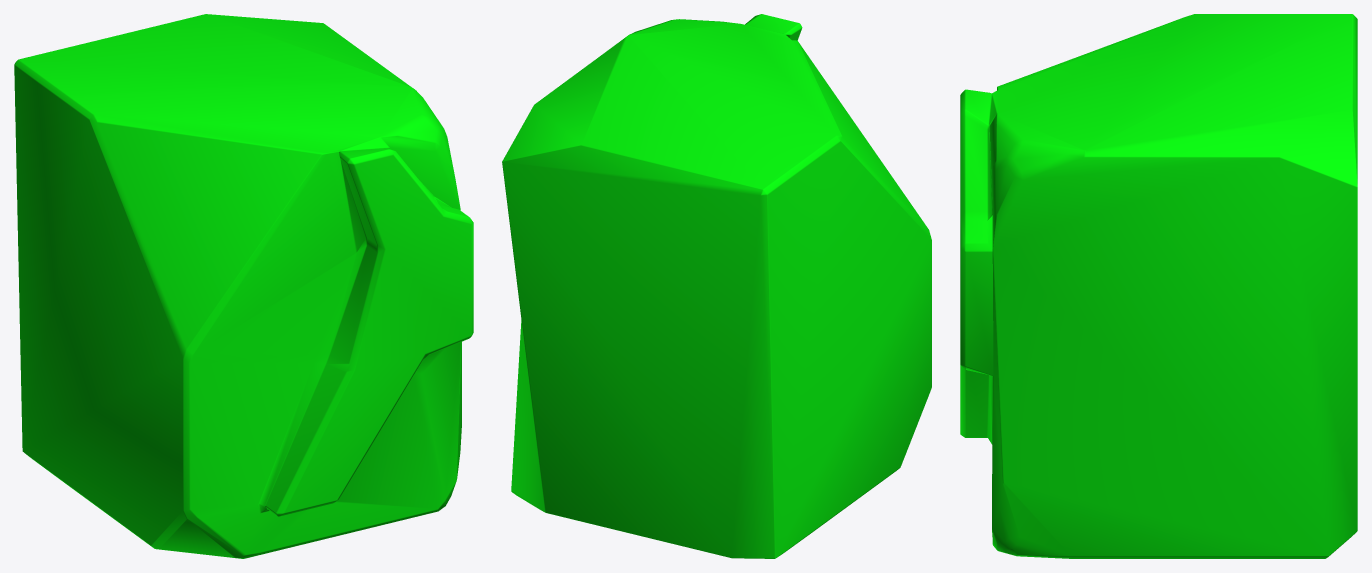
The model's file is Green_Crystal_08.fbx.
3 renders of one model, left to right at view 1: azimuth 30°, elevation 25°; view 2: azimuth 150°, elevation 25°; view 3: azimuth 270°, elevation 25°, orthographic. The views are drawn at different scales.
Parts seen in each view (by area): view 1: Green_Crystal_08; view 2: Green_Crystal_08; view 3: Green_Crystal_08.
Boxes of the visible parts, x1,y1,x2,y2 form: Green_Crystal_08: (14,14,473,558); Green_Crystal_08: (502,14,931,558); Green_Crystal_08: (960,14,1357,558).
Size of the model in its own units: 2.83 by 3.74 by 3.3.
